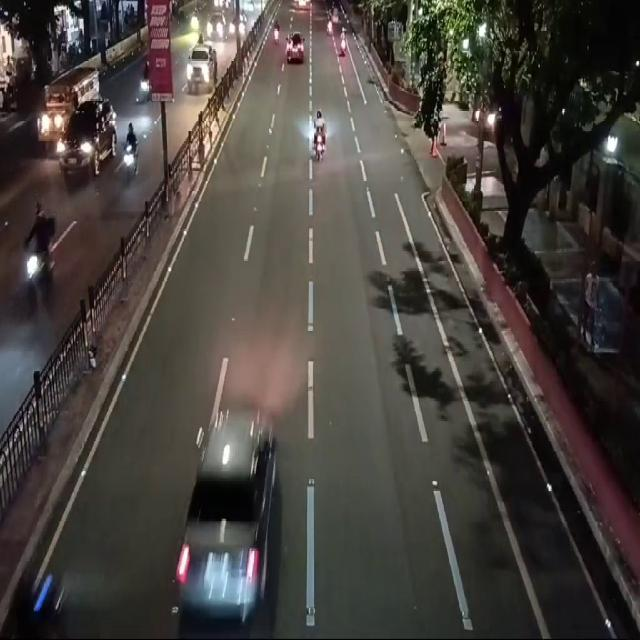car: (159, 369, 293, 629), (55, 97, 122, 186), (283, 19, 308, 76)
motorcycle: (19, 198, 66, 317), (122, 116, 148, 181), (308, 88, 327, 175)
